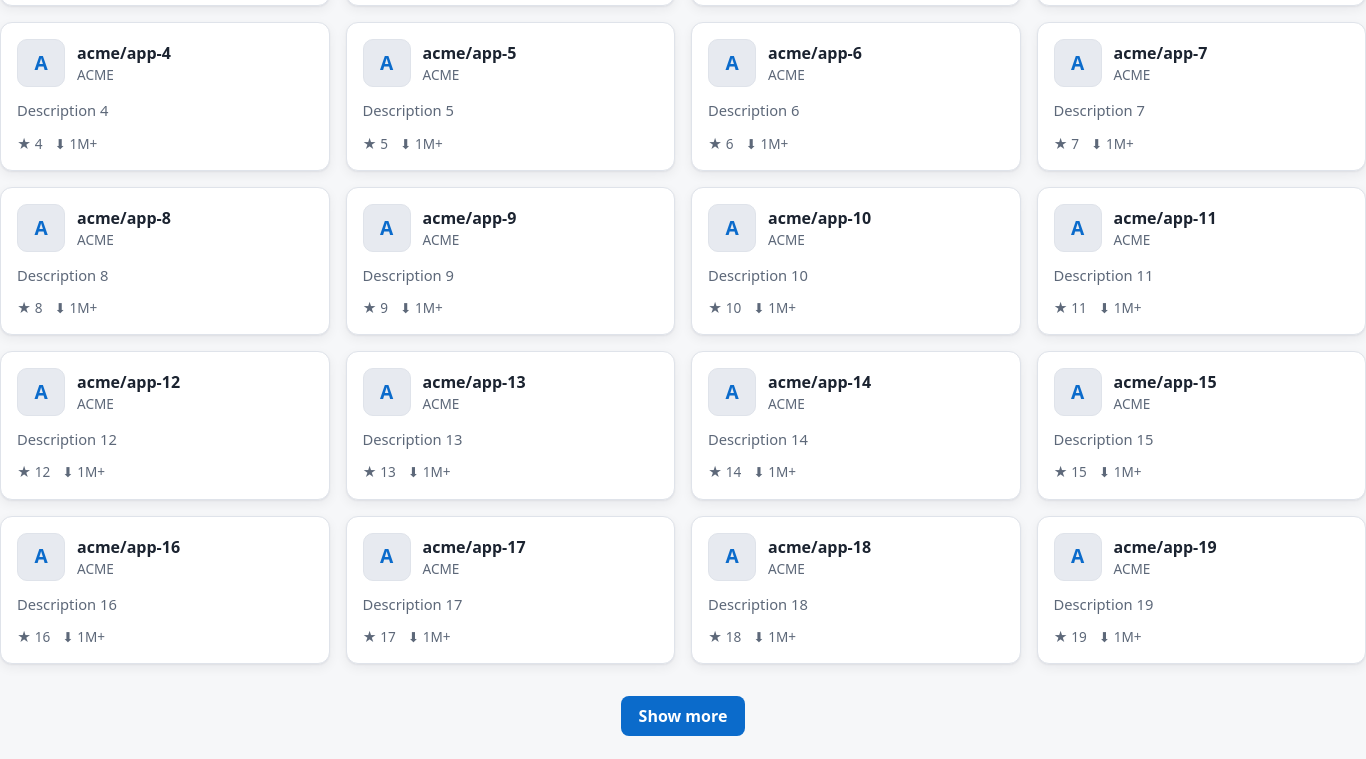
Test: ExplorePage › loads more search results
(page scrolled)
What coordinates should you click on to do the following:
click the button "Show more"
I would click on:
 (683, 716)
Its box is [621,696,745,736].
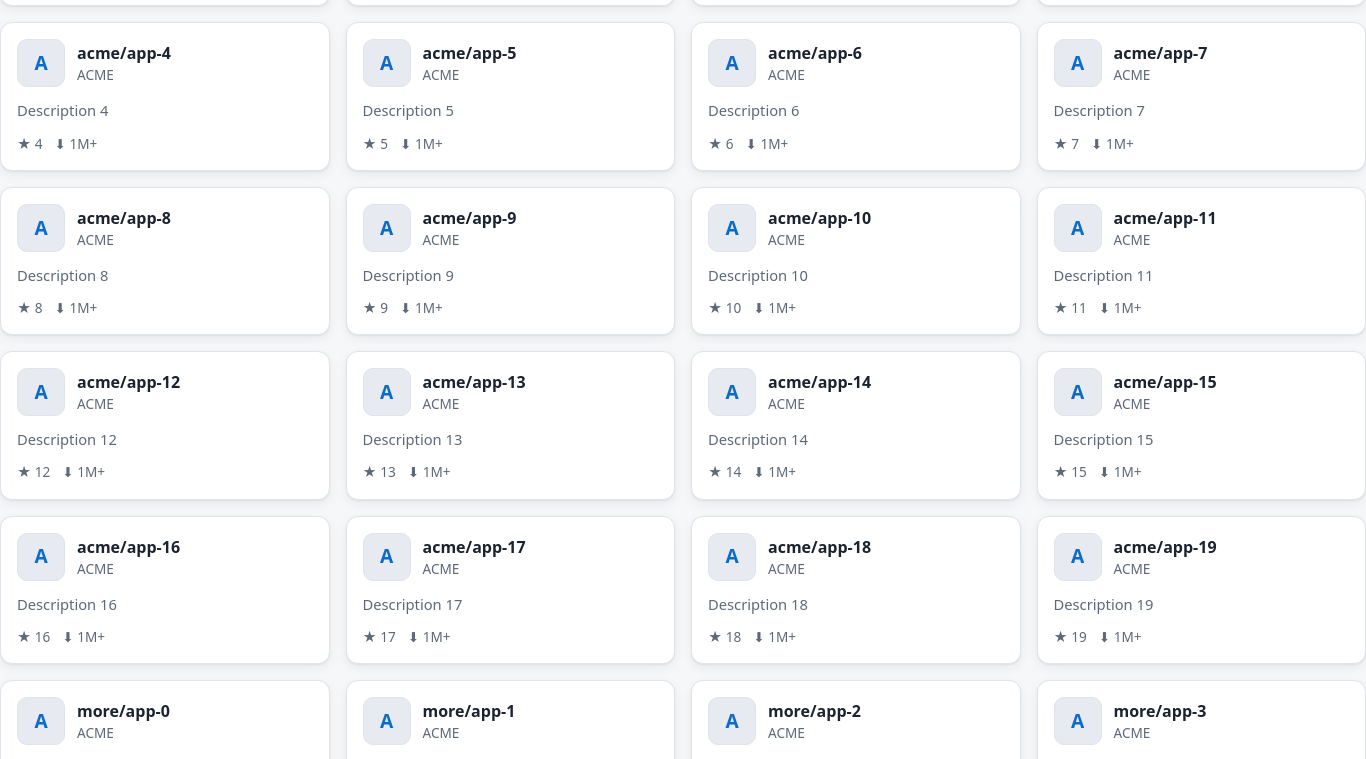
Expected: the button "Show more" is gone
